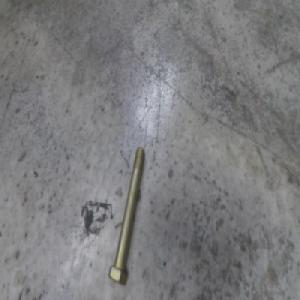Bolt: (109, 143, 146, 284)
